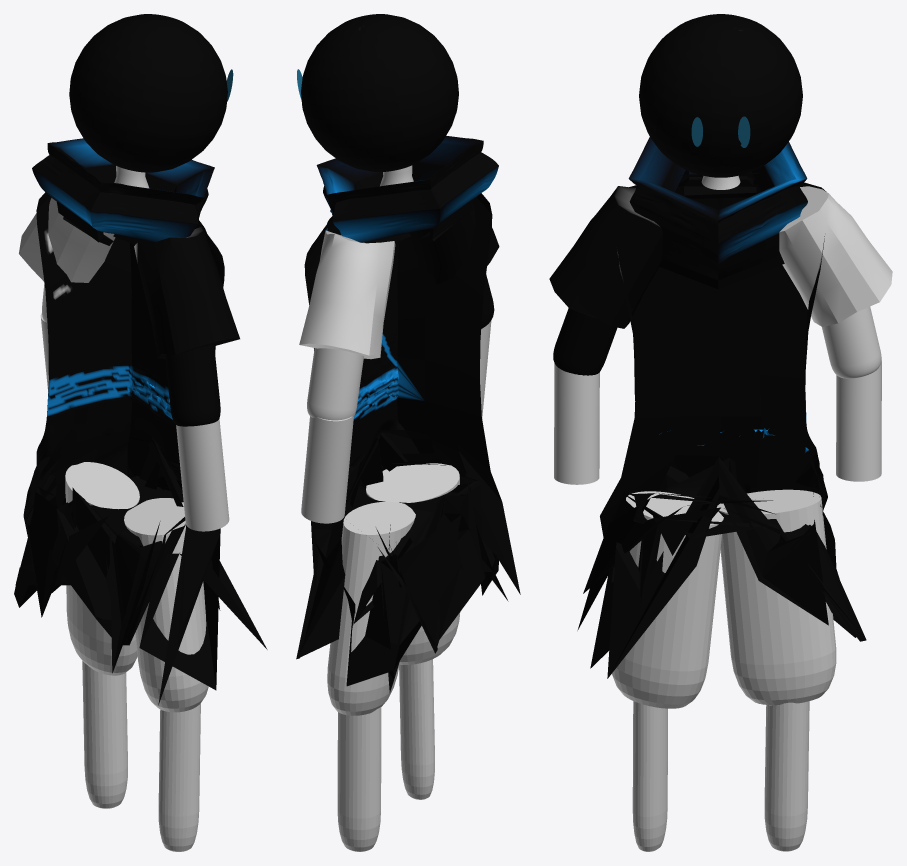
File: newronin.fbx
3 views of the same model, side by side, from view 1: azimuth 30°, elevation 25°; view 2: azimuth 150°, elevation 25°; view 3: azimuth 270°, elevation 25° (orthographic). The views are drawn at different scales.
Visible parts, largest first — view 1: body, head, upper arm.R, right thigh, leg.L, left thigh, leg.R, forearm.R, upper arm.L, neck; view 2: body, head, upper arm.L, left thigh, leg.L, forearm.L, leg.R, right thigh, upper arm.R, forearm.R, neck; view 3: body, head, left thigh, upper arm.L, upper arm.R, right thigh, leg.L, forearm.R, leg.R, forearm.L.
Boxes of the visible parts, bbox=[...] form: body: bbox=[14, 138, 267, 704]; head: bbox=[69, 14, 233, 172]; upper arm.R: bbox=[134, 226, 239, 426]; right thigh: bbox=[124, 498, 208, 712]; leg.L: bbox=[82, 661, 127, 808]; left thigh: bbox=[65, 462, 139, 675]; leg.R: bbox=[158, 703, 200, 851]; forearm.R: bbox=[176, 418, 229, 531]; upper arm.L: bbox=[19, 198, 115, 323]; neck: bbox=[114, 166, 149, 188]; body: bbox=[296, 135, 520, 692]; head: bbox=[297, 14, 458, 171]; upper arm.L: bbox=[299, 230, 395, 420]; left thigh: bbox=[327, 501, 415, 715]; leg.L: bbox=[337, 707, 381, 851]; forearm.L: bbox=[301, 416, 353, 523]; leg.R: bbox=[399, 659, 434, 799]; right thigh: bbox=[366, 463, 460, 664]; upper arm.R: bbox=[409, 203, 499, 328]; forearm.R: bbox=[480, 321, 491, 418]; neck: bbox=[380, 165, 413, 186]; body: bbox=[577, 137, 866, 678]; head: bbox=[639, 14, 802, 177]; left thigh: bbox=[716, 489, 836, 705]; upper arm.L: bbox=[779, 186, 892, 378]; upper arm.R: bbox=[549, 186, 662, 375]; right thigh: bbox=[612, 491, 723, 708]; leg.L: bbox=[764, 701, 809, 851]; forearm.R: bbox=[554, 363, 599, 484]; leg.R: bbox=[632, 701, 667, 851]; forearm.L: bbox=[836, 360, 881, 481].
Size of the model in its own units: 80.7 by 360 by 135.
